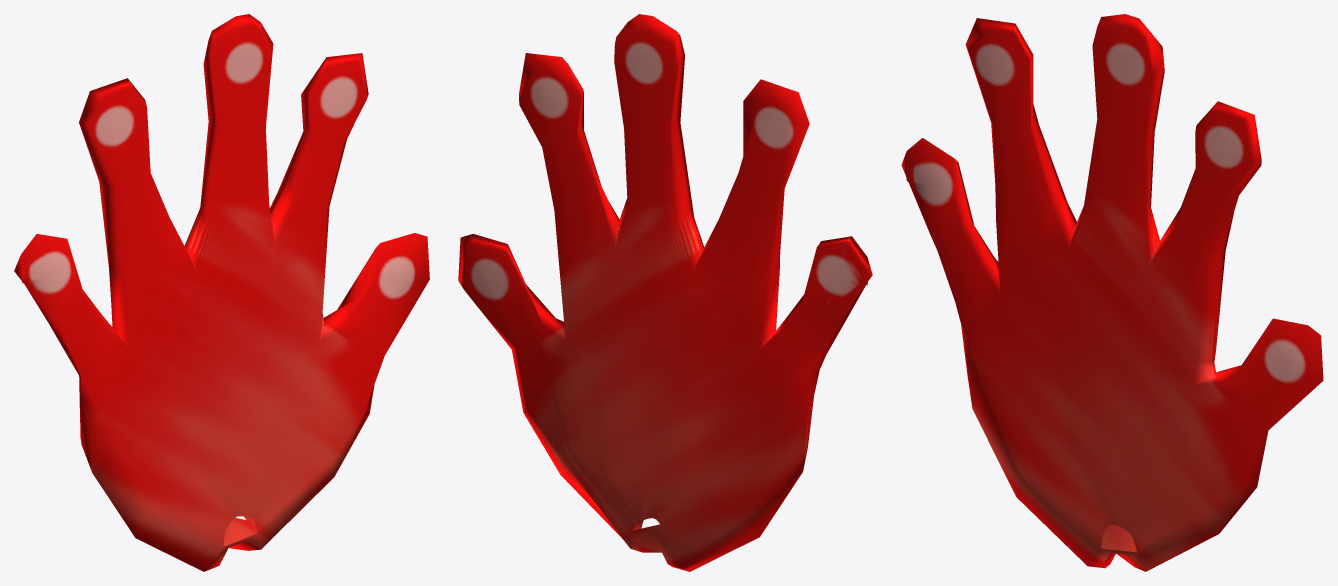
File: Sticky Hand.fbx
3 views of the same model, side by side, from view 1: azimuth 30°, elevation 25°; view 2: azimuth 150°, elevation 25°; view 3: azimuth 330°, elevation 25° (orthographic). The views are drawn at different scales.
Parts seen in each view (by area): view 1: Cylinder.002; view 2: Cylinder.002; view 3: Cylinder.002.
Part boxes in pixels (x1,y1,x2,y2): Cylinder.002: (14, 14, 429, 571); Cylinder.002: (458, 14, 872, 571); Cylinder.002: (901, 14, 1323, 571).
Bounding box in the file's own units: 50.1 × 63.13 × 4.17.
Materials: 1 (1 with a texture image).
